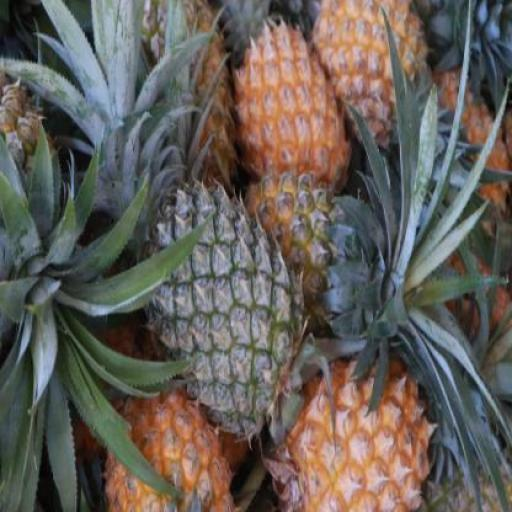Pineapple - v8 v1: (278, 357, 432, 512), (233, 22, 348, 202), (312, 0, 426, 154), (104, 384, 234, 512)
